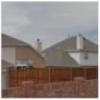chimneys: (33, 38, 43, 52), (77, 34, 84, 52)
